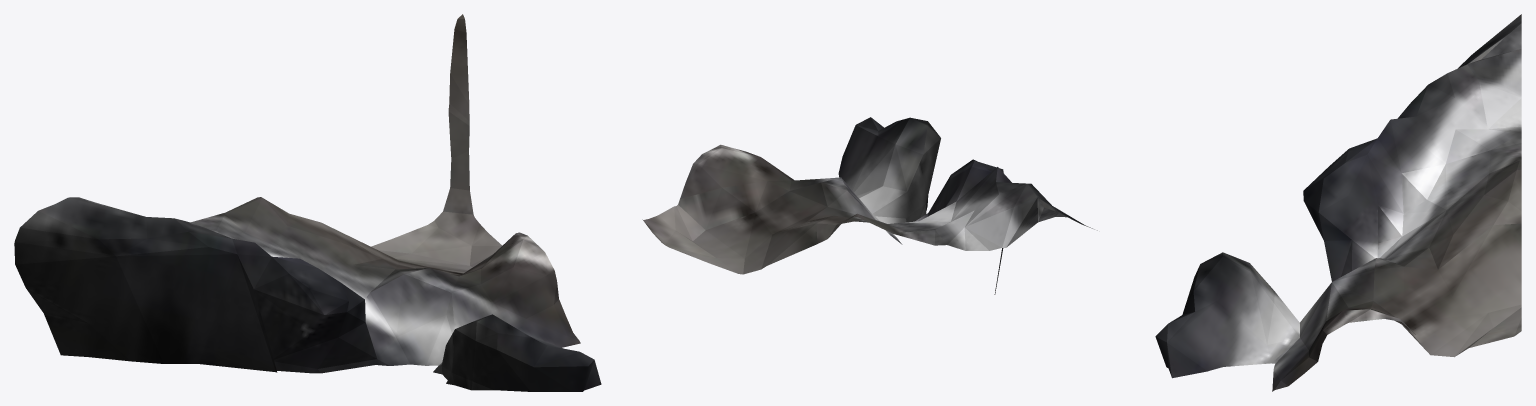
3 views of the same model, side by side, from view 1: azimuth 30°, elevation 25°; view 2: azimuth 150°, elevation 25°; view 3: azimuth 270°, elevation 25° (orthographic). The views are drawn at different scales.
Size of the model in its own units: 0.456 by 0.2363 by 0.3048.
Materials: 1 (1 with a texture image).
